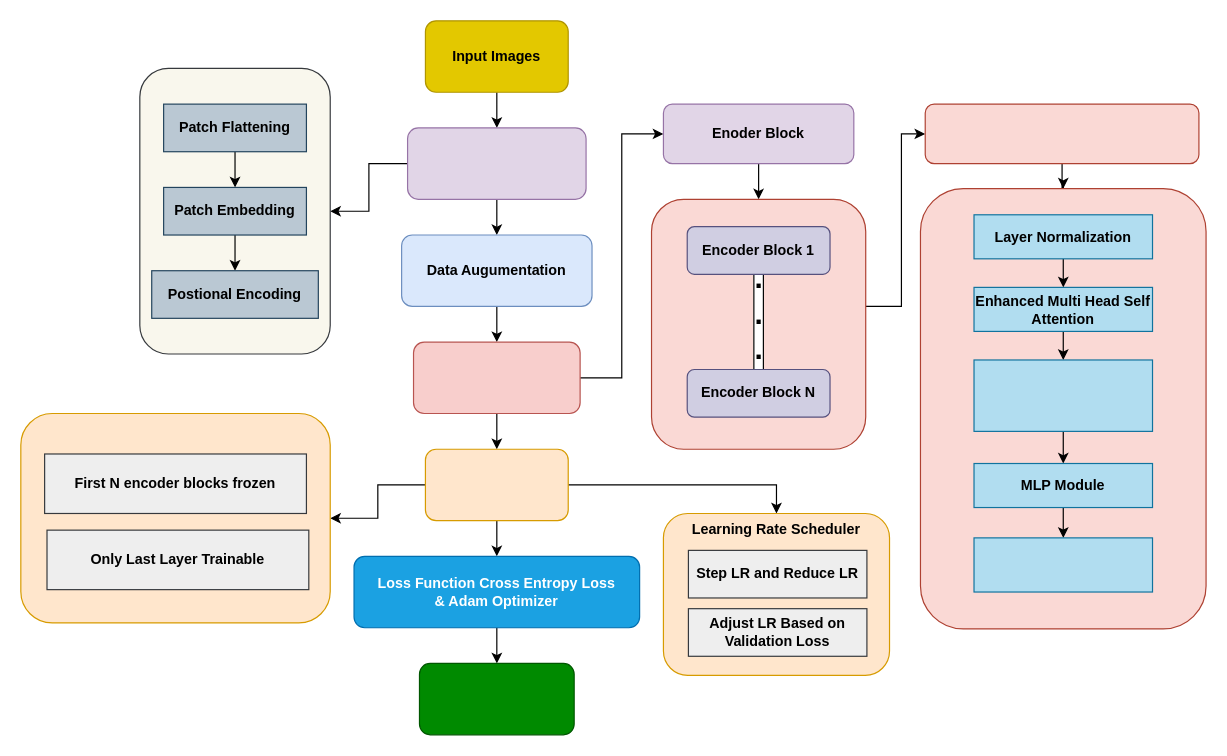
The diagram is 1227 pixels wide and 756 high, and some of its shapes have lost their labels. The box of each missing label's shape, as (x1, y1, x2, y2) in pixels:
Data Load: (406, 127, 586, 199)
Freeze Layer & Scheduler: (424, 448, 568, 521)
Freeze Layer Process: (20, 412, 330, 623)
Residual Connection and Layer Normalization: (973, 537, 1153, 592)
Residual Connection and Layer Normalization (Post-MHSA): (973, 359, 1153, 431)
Structure Of Encoder Block: (924, 103, 1199, 164)
Train & Prediction & Solution: (418, 662, 574, 735)
Vision Transformer: (412, 341, 580, 414)
